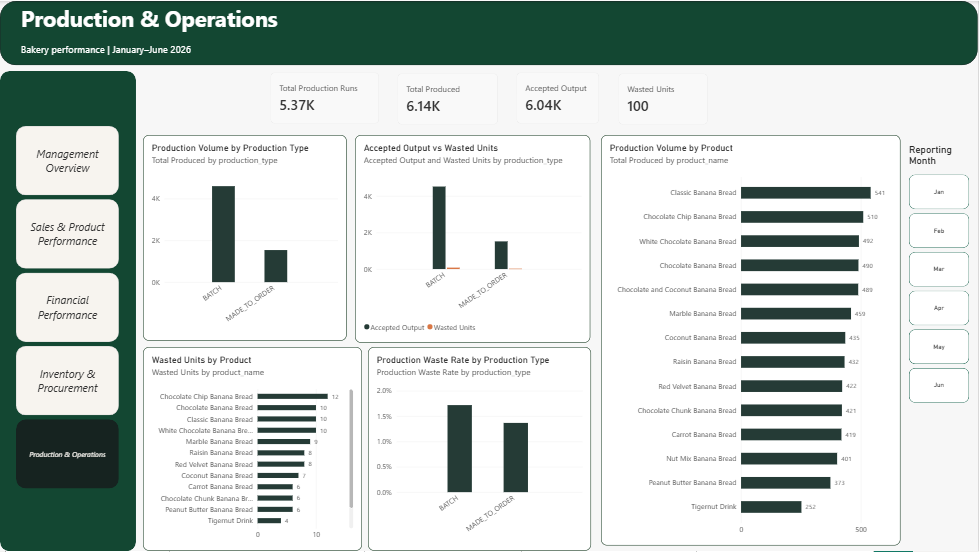

Layout of this report page (visuals, bound fields, positions):
{"tool":"powerbi","page":{"name":"Production & Operations","canvas":[1920,1080],"ordinal":4},"visuals":[{"type":"advancedSlicerVisual","title":"Reporting Month","fields":{"Values":["DimDate.Month"]},"box":[1785,280,118.5,638.8],"z":0},{"type":"cardVisual","fields":{"Data":["Measure.Total Production Runs"]},"box":[525.9,135,223.3,110],"z":1000},{"type":"cardVisual","fields":{"Data":["Measure.Accepted Output"]},"box":[1010,135,172.5,110],"z":2000},{"type":"cardVisual","fields":{"Data":["Measure.Wasted Units"]},"box":[1209.1,137.5,185,110],"z":3000},{"type":"cardVisual","fields":{"Data":["Measure.Total Produced"]},"box":[775.9,137.5,207.5,110],"z":4000},{"type":"clusteredColumnChart","title":"Production Volume by Production Type","fields":{"Category":["production_batches.production_type"],"Y":["Measure.Total Produced"]},"box":[280.8,263.5,399.6,403.9],"z":5000},{"type":"clusteredColumnChart","title":"Accepted Output vs Wasted Units","fields":{"Category":["production_batches.production_type"],"Y":["Measure.Accepted Output","Measure.Wasted Units"]},"box":[697.7,263.5,462.2,408.2],"z":6000},{"type":"clusteredColumnChart","title":"Production Waste Rate by Production Type","fields":{"Category":["production_batches.production_type"],"Y":["Measure.Production Waste Rate"]},"box":[722.5,680,437.5,400],"z":7000},{"type":"clusteredBarChart","title":"Production Volume by Product","fields":{"Category":["products.product_name"],"Y":["Measure.Total Produced"]},"box":[1179.4,263.5,587.5,805.7],"z":8000},{"type":"clusteredBarChart","title":"Wasted Units by Product","fields":{"Category":["products.product_name"],"Y":["Measure.Wasted Units"]},"box":[280,680,430,400],"z":9000},{"type":"shape","box":[0,0,1920,126],"z":10000},{"type":"textbox","box":[40.9,6.8,625,120],"z":11000},{"type":"shape","box":[0,137.1,267.1,942.9],"z":12000},{"type":"pageNavigator","box":[32,246,202.5,712.5],"z":13000}]}

Visuals, with their boxes in screenshot pixels (x1, y1, x2, y2), scaled from the page's 1920x1080 canvas onto the 979x552 screenshot:
"Reporting Month" advancedSlicerVisual: [910,143,971,470]
cardVisual - Measure.Total Production Runs: [268,69,382,125]
cardVisual - Measure.Accepted Output: [515,69,603,125]
cardVisual - Measure.Wasted Units: [617,70,711,126]
cardVisual - Measure.Total Produced: [396,70,501,126]
"Production Volume by Production Type" clusteredColumnChart: [143,135,347,341]
"Accepted Output vs Wasted Units" clusteredColumnChart: [356,135,591,343]
"Production Waste Rate by Production Type" clusteredColumnChart: [368,348,591,551]
"Production Volume by Product" clusteredBarChart: [601,135,901,546]
"Wasted Units by Product" clusteredBarChart: [143,348,362,551]
shape: [0,0,978,64]
textbox: [21,3,340,65]
shape: [0,70,136,551]
pageNavigator: [16,126,120,490]
